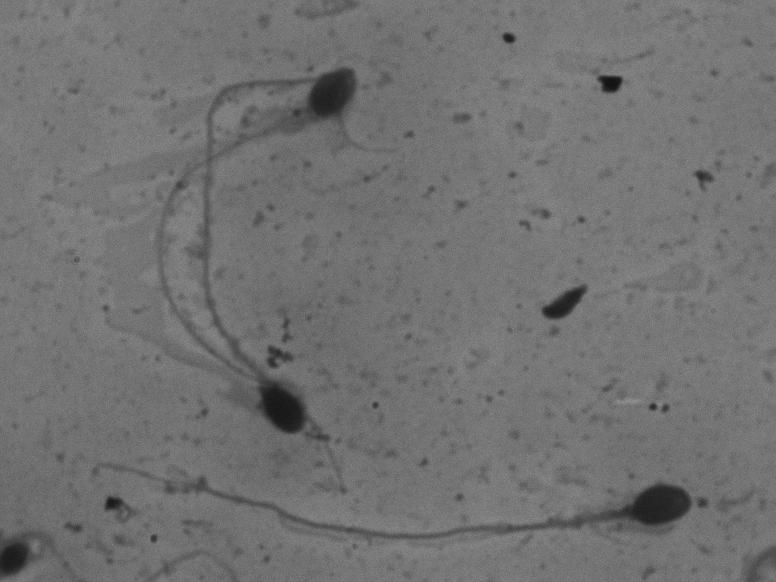Normal: (135, 37, 395, 394), (58, 436, 712, 557), (185, 59, 338, 443)
